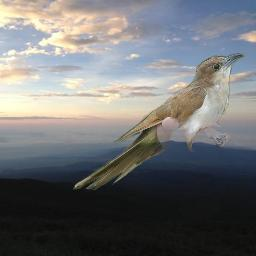Cuckoo: (73, 53, 245, 191)
